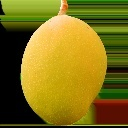mango: (20, 9, 107, 124)
